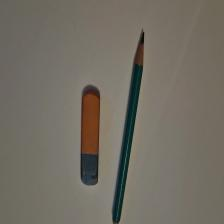eraser: (82, 92, 102, 188)
pencil: (113, 33, 146, 224)
